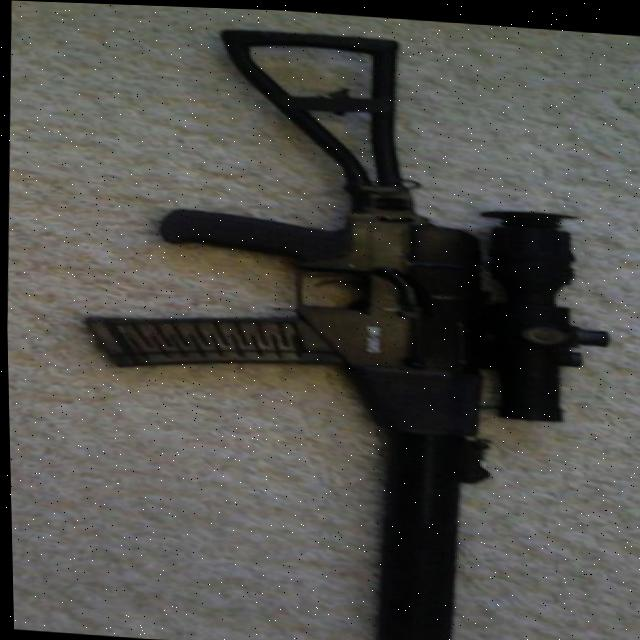firearm: (73, 13, 623, 640)
